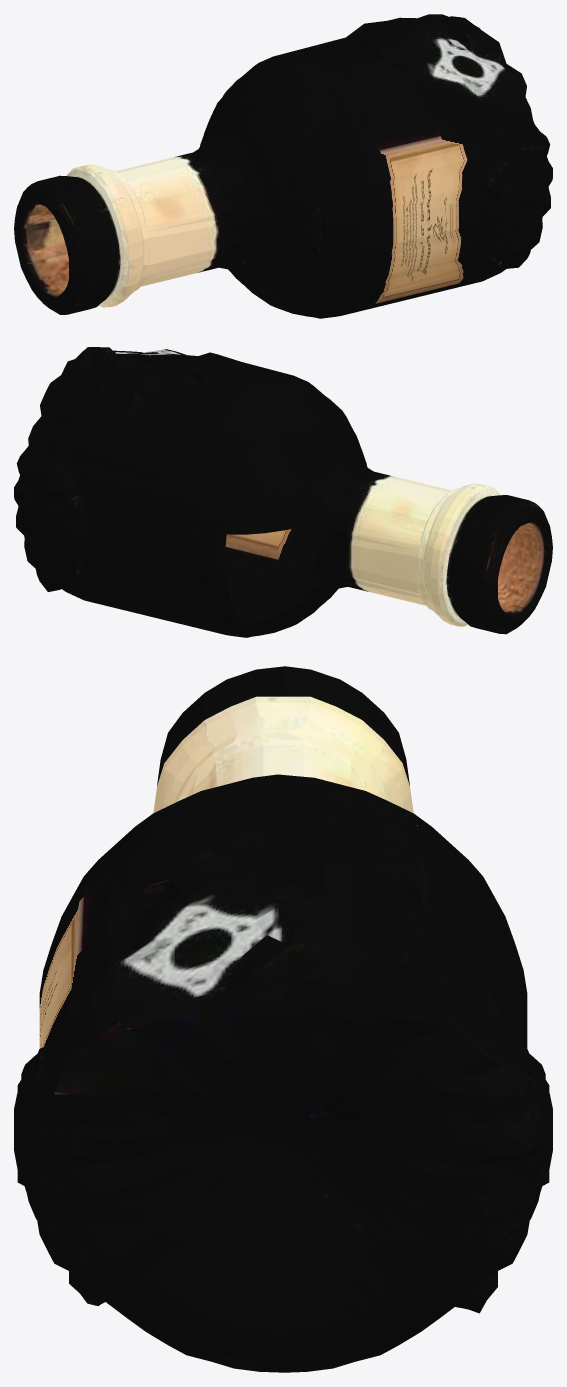
Rendered from wreck_bottle.glb.
The picture shows the model from 3 angles, top to bottom: view 1: azimuth 30°, elevation 25°; view 2: azimuth 150°, elevation 25°; view 3: azimuth 270°, elevation 25°; orthographic projection. The views are drawn at different scales.
Parts seen in each view (by area): view 1: mesh_node; view 2: mesh_node; view 3: mesh_node.
Part boxes in pixels (x1,y1,x2,y2): mesh_node: [14, 14, 552, 318]; mesh_node: [14, 347, 552, 637]; mesh_node: [14, 666, 552, 1372].
Bounding box in the file's own units: 1.03 × 0.5402 × 0.5753.
1 material, 1 textured.
